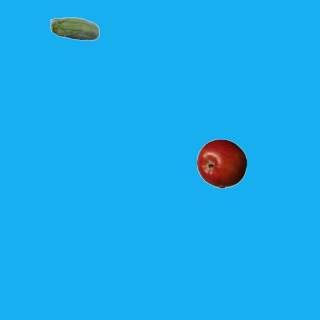Apple Braeburn: (196, 138, 246, 188)
Corn Husk: (49, 5, 99, 55)
